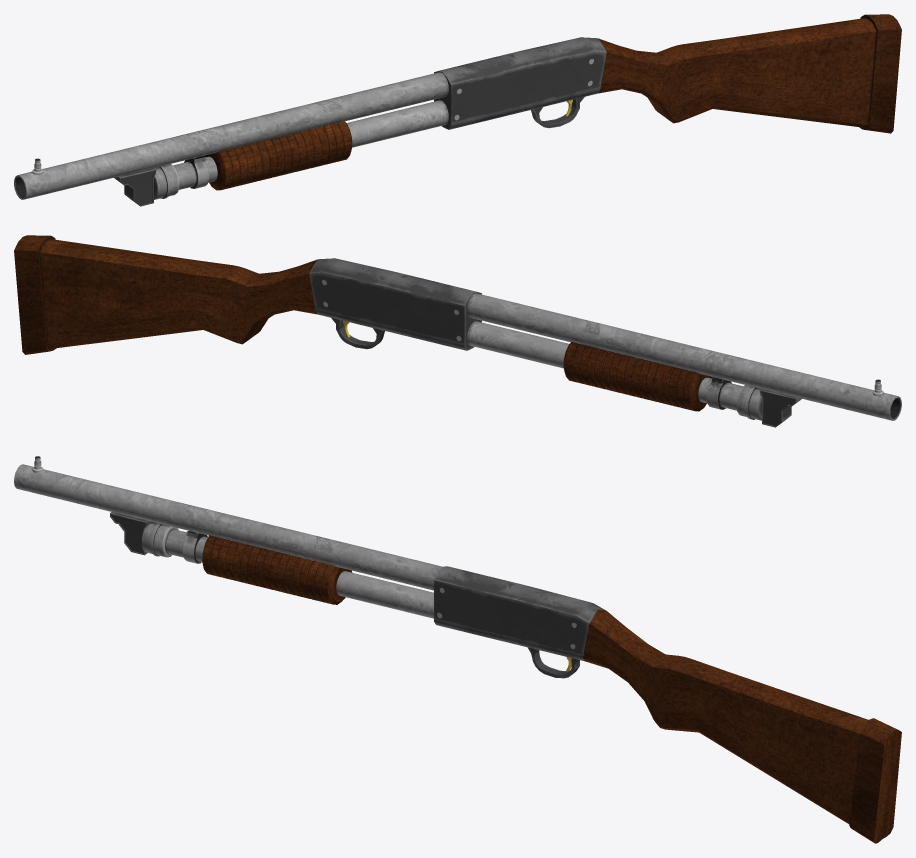
File: shotgun.glb
3 views of the same model, one above another, from view 1: azimuth 30°, elevation 25°; view 2: azimuth 150°, elevation 25°; view 3: azimuth 330°, elevation 25° (orthographic).
Parts seen in each view (by area): view 1: Cube.001, Cylinder, Cube, Cylinder.001, Cube.003, Cube.002; view 2: Cube.001, Cylinder, Cube, Cylinder.001, Cube.003, Cube.002; view 3: Cube.001, Cylinder, Cube, Cylinder.001, Cube.003.
Part boxes in pixels (left/top/right/bottom): Cube.001: left=598, top=14, right=901, bottom=133; Cylinder: left=14, top=72, right=448, bottom=199; Cube: left=434, top=37, right=606, bottom=129; Cylinder.001: left=204, top=121, right=352, bottom=190; Cube.003: left=114, top=168, right=156, bottom=206; Cube.002: left=531, top=97, right=584, bottom=128; Cube.001: left=14, top=235, right=317, bottom=354; Cylinder: left=467, top=293, right=901, bottom=420; Cube: left=309, top=258, right=481, bottom=350; Cylinder.001: left=563, top=342, right=711, bottom=411; Cube.003: left=760, top=389, right=801, bottom=427; Cube.002: left=331, top=318, right=384, bottom=349; Cube.001: left=583, top=609, right=901, bottom=843; Cylinder: left=14, top=464, right=442, bottom=618; Cube: left=434, top=566, right=605, bottom=661; Cylinder.001: left=202, top=535, right=352, bottom=604; Cube.003: left=110, top=512, right=150, bottom=555.
Bounding box in the file's own units: 4.69 × 0.9043 × 0.2205.
1 material, 1 textured.
